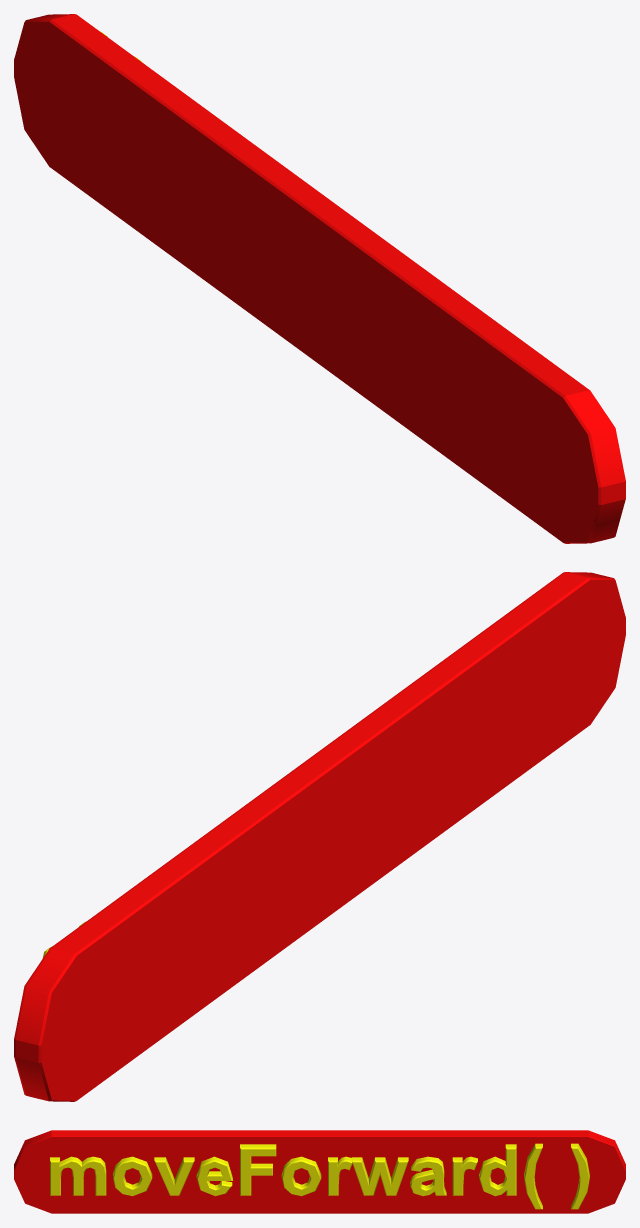
The model's file is moveForward.FBX.
The picture shows the model from 3 angles, top to bottom: view 1: azimuth 30°, elevation 25°; view 2: azimuth 150°, elevation 25°; view 3: azimuth 270°, elevation 25°; orthographic projection. The views are drawn at different scales.
Parts seen in each view (by area): view 1: moveForward; view 2: moveForward; view 3: moveForward.
Boxes of the visible parts, x1=… form: moveForward: x1=14, y1=14, x2=625, y2=543; moveForward: x1=14, y1=572, x2=625, y2=1101; moveForward: x1=14, y1=1130, x2=625, y2=1213.
Bounding box in the file's own units: 115 × 381 × 2732.
